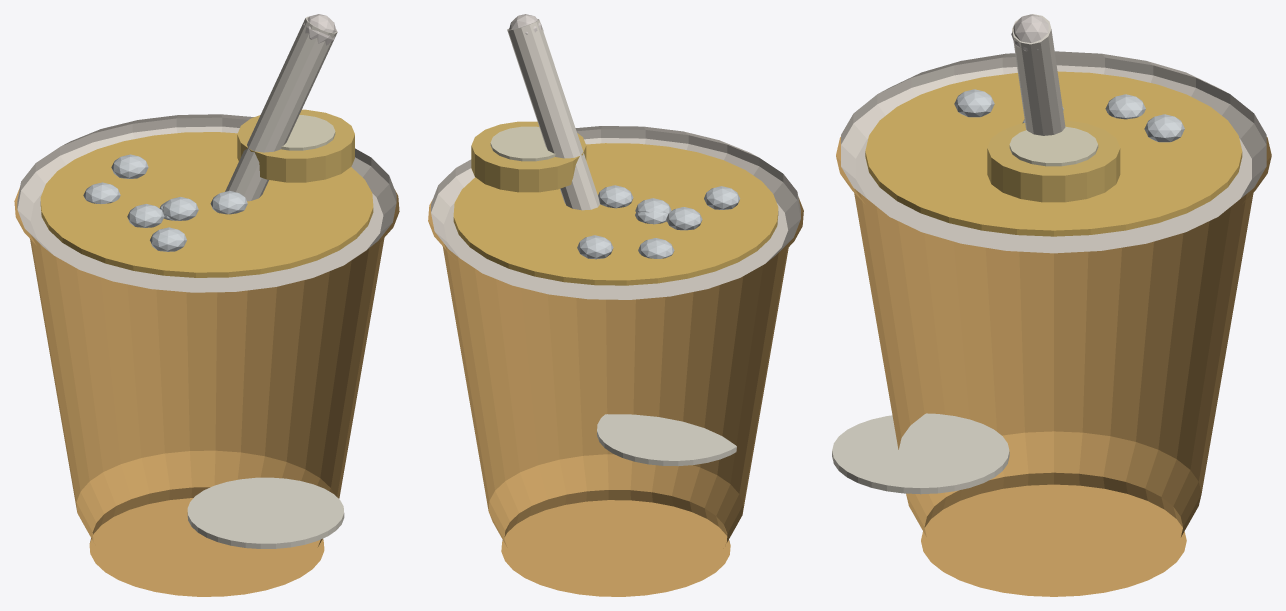
File: nuoc_cam.glb
The picture shows the model from 3 angles, left to right: view 1: azimuth 30°, elevation 25°; view 2: azimuth 150°, elevation 25°; view 3: azimuth 270°, elevation 25°; orthographic projection. The views are drawn at different scales.
Parts seen in each view (by area): view 1: obj_0000, obj_0001, obj_0002, obj_0003, obj_0004, obj_0013, obj_0014, obj_0007, obj_0009, obj_0006, obj_0008, obj_0012 (+2 smaller); view 2: obj_0000, obj_0001, obj_0002, obj_0004, obj_0003, obj_0013, obj_0014, obj_0007, obj_0009, obj_0006, obj_0008, obj_0011; view 3: obj_0000, obj_0001, obj_0002, obj_0003, obj_0013, obj_0004, obj_0014, obj_0009, obj_0007, obj_0005, obj_0011.
Boxes of the visible parts, left/top/right/bottom form: obj_0000: left=14, top=187, right=399, bottom=596; obj_0001: left=40, top=132, right=373, bottom=277; obj_0002: left=17, top=114, right=396, bottom=292; obj_0003: left=187, top=477, right=344, bottom=548; obj_0004: left=225, top=16, right=337, bottom=201; obj_0013: left=237, top=109, right=354, bottom=182; obj_0014: left=281, top=115, right=335, bottom=150; obj_0007: left=111, top=154, right=148, bottom=178; obj_0009: left=150, top=227, right=186, bottom=251; obj_0006: left=127, top=204, right=164, bottom=227; obj_0008: left=210, top=191, right=247, bottom=214; obj_0012: left=163, top=197, right=198, bottom=220; obj_0000: left=428, top=197, right=803, bottom=596; obj_0001: left=453, top=143, right=778, bottom=285; obj_0002: left=431, top=126, right=800, bottom=299; obj_0004: left=507, top=19, right=599, bottom=210; obj_0003: left=597, top=414, right=736, bottom=466; obj_0013: left=471, top=121, right=586, bottom=192; obj_0014: left=490, top=126, right=555, bottom=161; obj_0007: left=577, top=235, right=613, bottom=259; obj_0009: left=704, top=186, right=740, bottom=209; obj_0006: left=666, top=207, right=702, bottom=230; obj_0008: left=598, top=185, right=633, bottom=208; obj_0011: left=638, top=238, right=674, bottom=258; obj_0000: left=836, top=137, right=1271, bottom=596; obj_0001: left=865, top=71, right=1242, bottom=236; obj_0002: left=841, top=51, right=1266, bottom=253; obj_0003: left=832, top=413, right=1009, bottom=494; obj_0013: left=987, top=120, right=1120, bottom=202; obj_0004: left=1012, top=14, right=1065, bottom=135; obj_0014: left=1009, top=126, right=1098, bottom=166; obj_0009: left=954, top=89, right=994, bottom=117; obj_0007: left=1144, top=114, right=1184, bottom=142; obj_0005: left=1011, top=14, right=1048, bottom=51; obj_0011: left=1105, top=94, right=1145, bottom=119.
Bounding box in the file's own units: 1.18 × 1.73 × 1.19.
